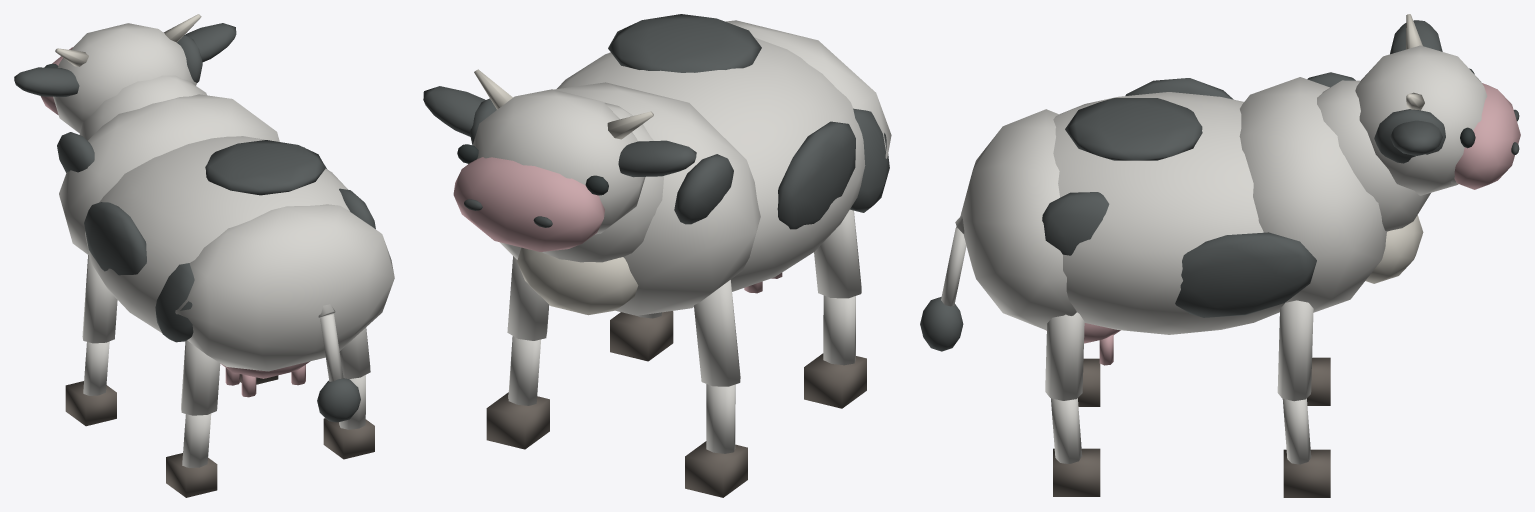
File: cow-17.glb
3 renders of one model, left to right at view 1: azimuth 30°, elevation 25°; view 2: azimuth 150°, elevation 25°; view 3: azimuth 270°, elevation 25°, orthographic. The views are drawn at different scales.
Parts seen in each view (by area): view 1: cow-17; view 2: cow-17; view 3: cow-17.
Part boxes in pixels (x1=…): cow-17: x1=14, y1=14, x2=394, y2=497; cow-17: x1=423, y1=14, x2=891, y2=497; cow-17: x1=920, y1=14, x2=1520, y2=497.
Bounding box in the file's own units: 3.4 × 4.4 × 6.16.
